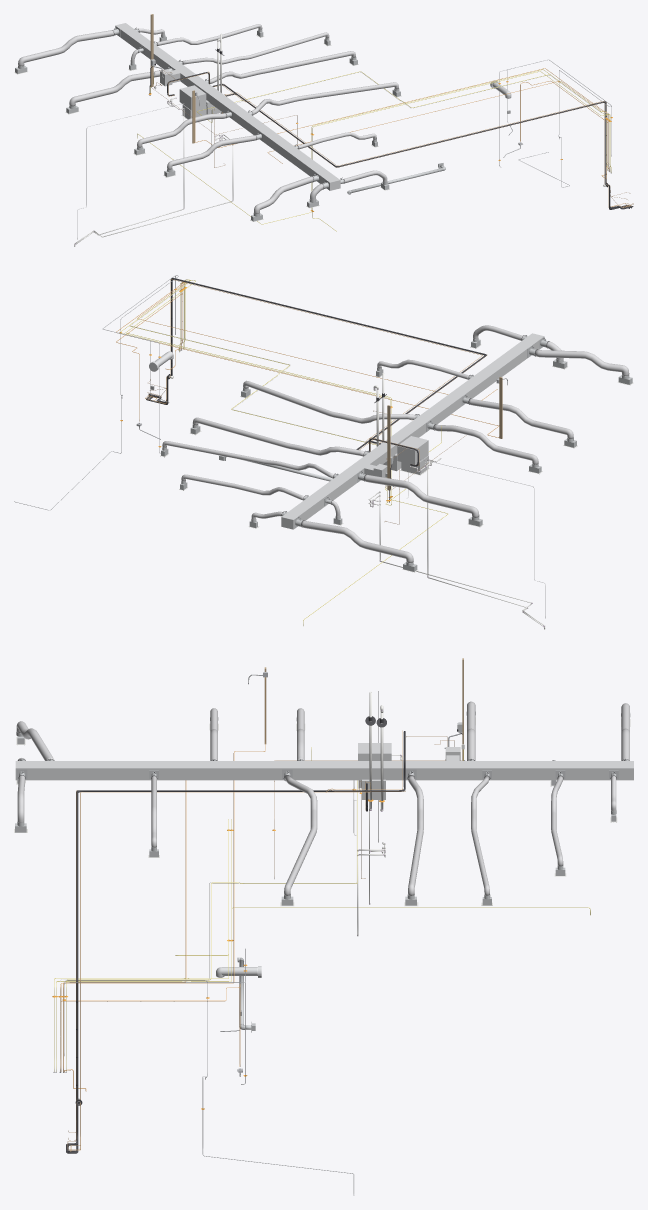
Rendered from pipes_hvac.glb.
3 views of the same model, one above another, from view 1: azimuth 30°, elevation 25°; view 2: azimuth 150°, elevation 25°; view 3: azimuth 270°, elevation 25° (orthographic). The views are drawn at different scales.
Parts seen in each view (by area): view 1: duct_hvac_supply_trunk, flex_hvac_master_1, flex_hvac_master_2, flex_hvac_bed2_1, flex_hvac_master_closet_1, flex_hvac_bed3_1, flex_hvac_kitchen_1, flex_hvac_kitchen_2, cable_sump_feed, duct_return_ahu_box, flex_hvac_master_bath_1, flex_hvac_living_1 (+10 smaller); view 2: duct_hvac_supply_trunk, flex_hvac_master_2, flex_hvac_master_1, flex_hvac_bed3_1, flex_hvac_bed2_1, flex_hvac_master_closet_1, flex_hvac_kitchen_2, flex_hvac_living_1, flex_hvac_kitchen_1, pipe_hvac_lineset_suction_hp_ra14ay36, duct_return_ahu_box, flex_hvac_master_bath_1 (+7 smaller); view 3: duct_hvac_supply_trunk, flex_hvac_master_1, pipe_hvac_lineset_suction_hp_rd16ay36, flex_hvac_master_2, cable_wh_attic_feed, cable_sump_feed, cable_hvac_furnace_feed, flex_hvac_master_closet_1, pipe_hvac_lineset_suction_hp_ra14ay36, cable_flo_attic_feed.
Part boxes in pixels (<box>): duct_hvac_supply_trunk: <box>115,23,340,190</box>; flex_hvac_master_1: <box>250,82,398,115</box>; flex_hvac_master_2: <box>208,51,355,83</box>; flex_hvac_bed2_1: <box>18,30,114,66</box>; flex_hvac_master_closet_1: <box>182,32,329,64</box>; flex_hvac_bed3_1: <box>69,69,165,106</box>; flex_hvac_kitchen_1: <box>167,135,257,169</box>; flex_hvac_kitchen_2: <box>137,113,227,147</box>; cable_sump_feed: <box>137,69,610,224</box>; duct_return_ahu_box: <box>179,85,206,110</box>; flex_hvac_master_bath_1: <box>156,24,262,45</box>; flex_hvac_living_1: <box>254,176,314,213</box>; duct_hvac_supply_trunk: <box>281,333,543,529</box>; flex_hvac_master_2: <box>192,417,365,456</box>; flex_hvac_master_1: <box>243,380,415,423</box>; flex_hvac_bed3_1: <box>363,474,479,517</box>; flex_hvac_bed2_1: <box>301,520,413,562</box>; flex_hvac_master_closet_1: <box>162,441,335,478</box>; flex_hvac_kitchen_2: <box>433,424,538,464</box>; flex_hvac_living_1: <box>534,349,629,375</box>; flex_hvac_kitchen_1: <box>468,398,573,438</box>; pipe_hvac_lineset_suction_hp_ra14ay36: <box>148,279,484,466</box>; duct_return_ahu_box: <box>397,436,428,464</box>; flex_hvac_master_bath_1: <box>181,474,305,500</box>; duct_hvac_supply_trunk: <box>15,761,633,780</box>; flex_hvac_master_1: <box>284,775,317,895</box>; pipe_hvac_lineset_suction_hp_rd16ay36: <box>68,731,405,1151</box>; flex_hvac_master_2: <box>408,775,423,895</box>; cable_wh_attic_feed: <box>60,677,265,1071</box>; cable_sump_feed: <box>56,819,590,1071</box>; cable_hvac_furnace_feed: <box>60,780,356,1071</box>; flex_hvac_master_closet_1: <box>471,776,489,895</box>; pipe_hvac_lineset_suction_hp_ra14ay36: <box>66,731,405,1152</box>; cable_flo_attic_feed: <box>66,747,357,1071</box>.
Bounding box in the file's own units: 17.66 × 7.18 × 14.19.
